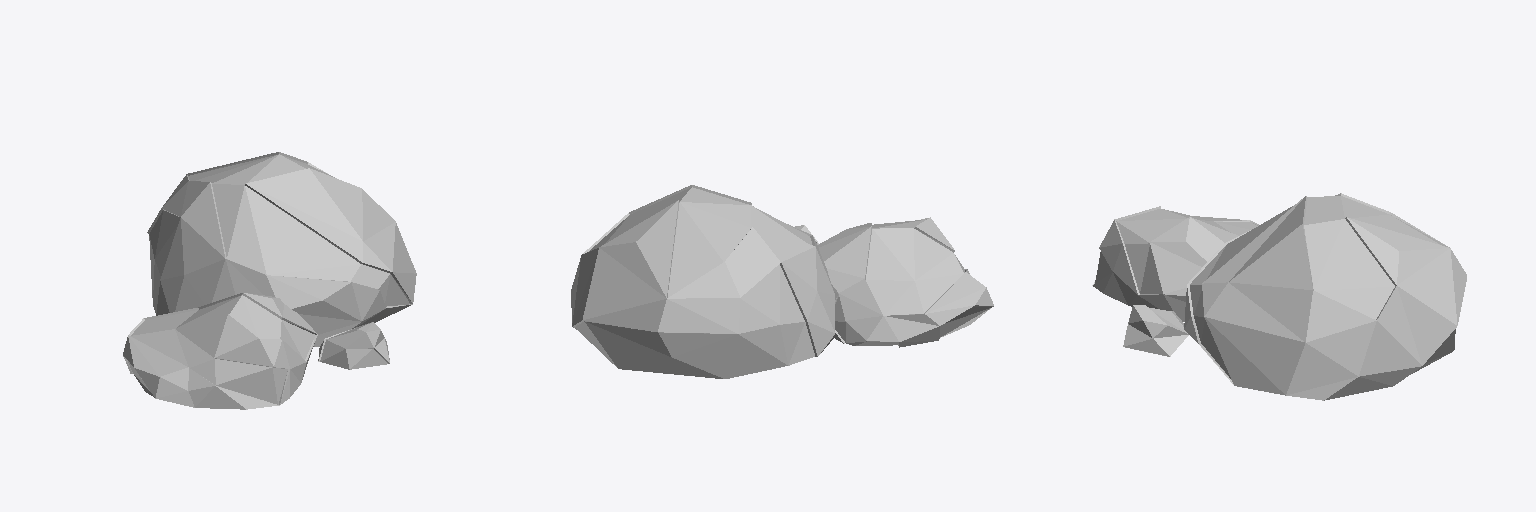
File: Rock1.obj
The picture shows the model from 3 angles: view 1: azimuth 30°, elevation 25°; view 2: azimuth 150°, elevation 25°; view 3: azimuth 270°, elevation 25°; orthographic projection.
Visible parts, largest first — view 1: Stone_group_average_mossy_Icosphere.030; view 2: Stone_group_average_mossy_Icosphere.030; view 3: Stone_group_average_mossy_Icosphere.030.
Part boxes in pixels (x1,y1,x2,y2): Stone_group_average_mossy_Icosphere.030: (123,152,416,409); Stone_group_average_mossy_Icosphere.030: (571,185,993,378); Stone_group_average_mossy_Icosphere.030: (1092,193,1466,400).
Bounding box in the file's own units: 2.97 × 1.15 × 2.93.